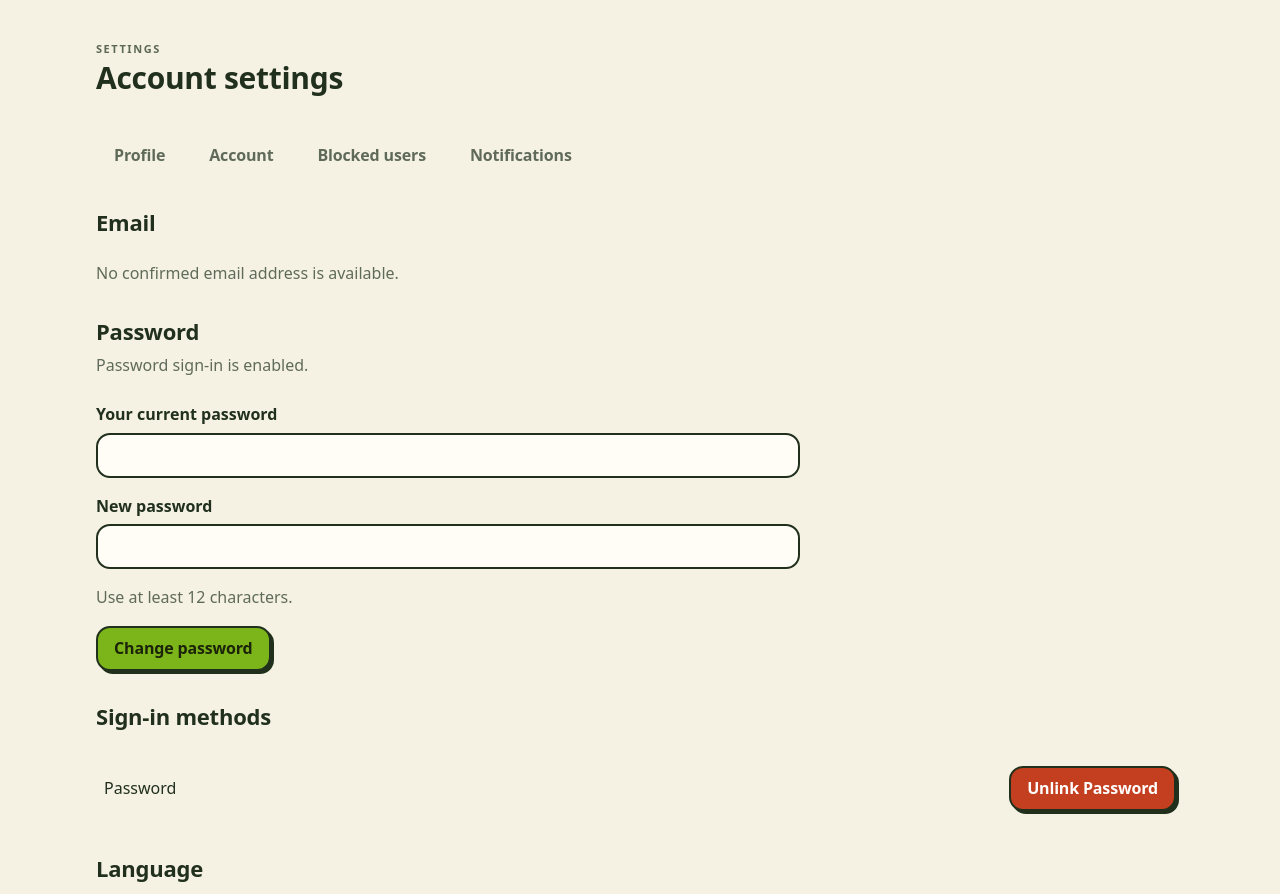
Scenario: PasswordManagement › blocks and hints a too-short new password on the change form
The width and height of the screenshot is (1280, 894).
In the password field labelled "Your current password": (448, 455) [96, 433, 800, 478], type "old-correct-password"
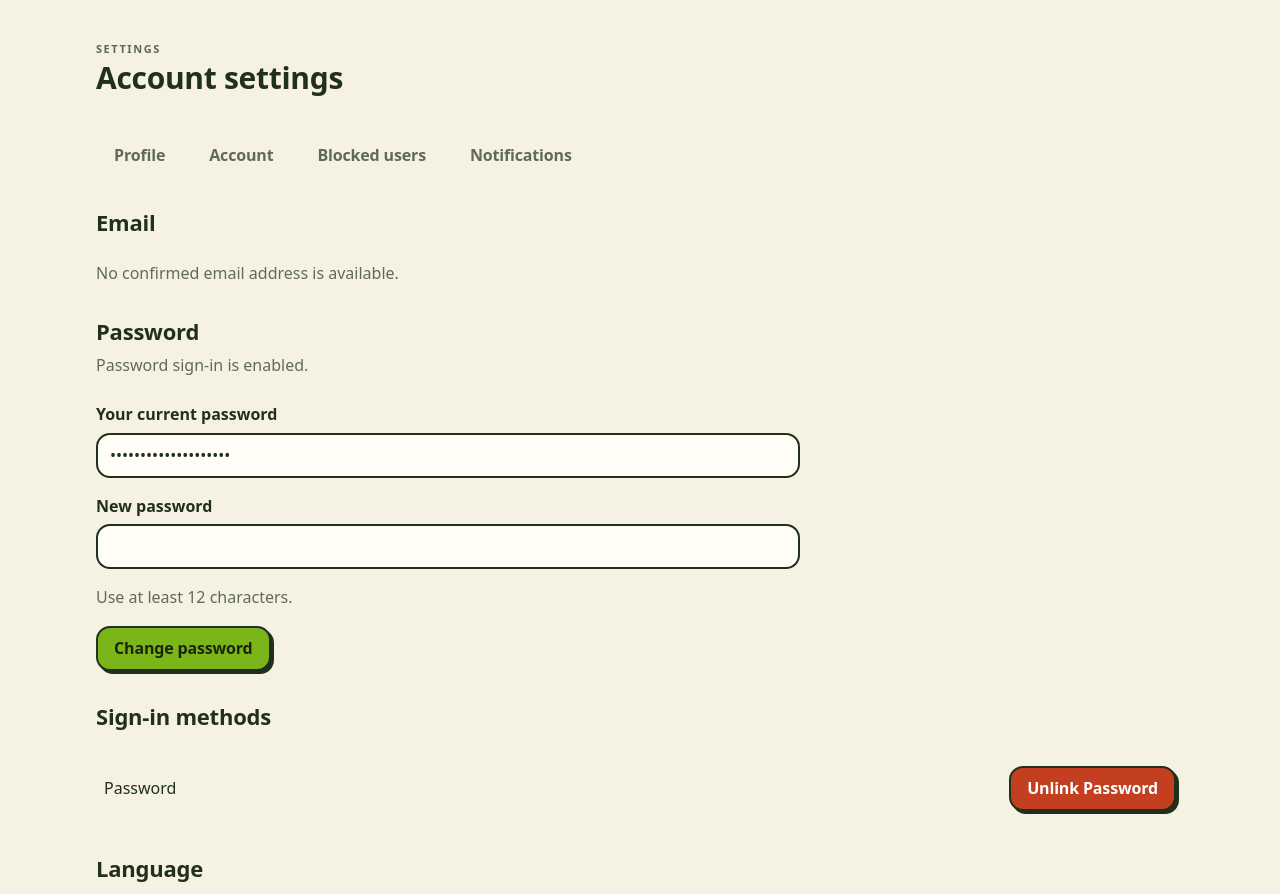
In the password field labelled "New password": (448, 547) [96, 524, 800, 569], type "short"
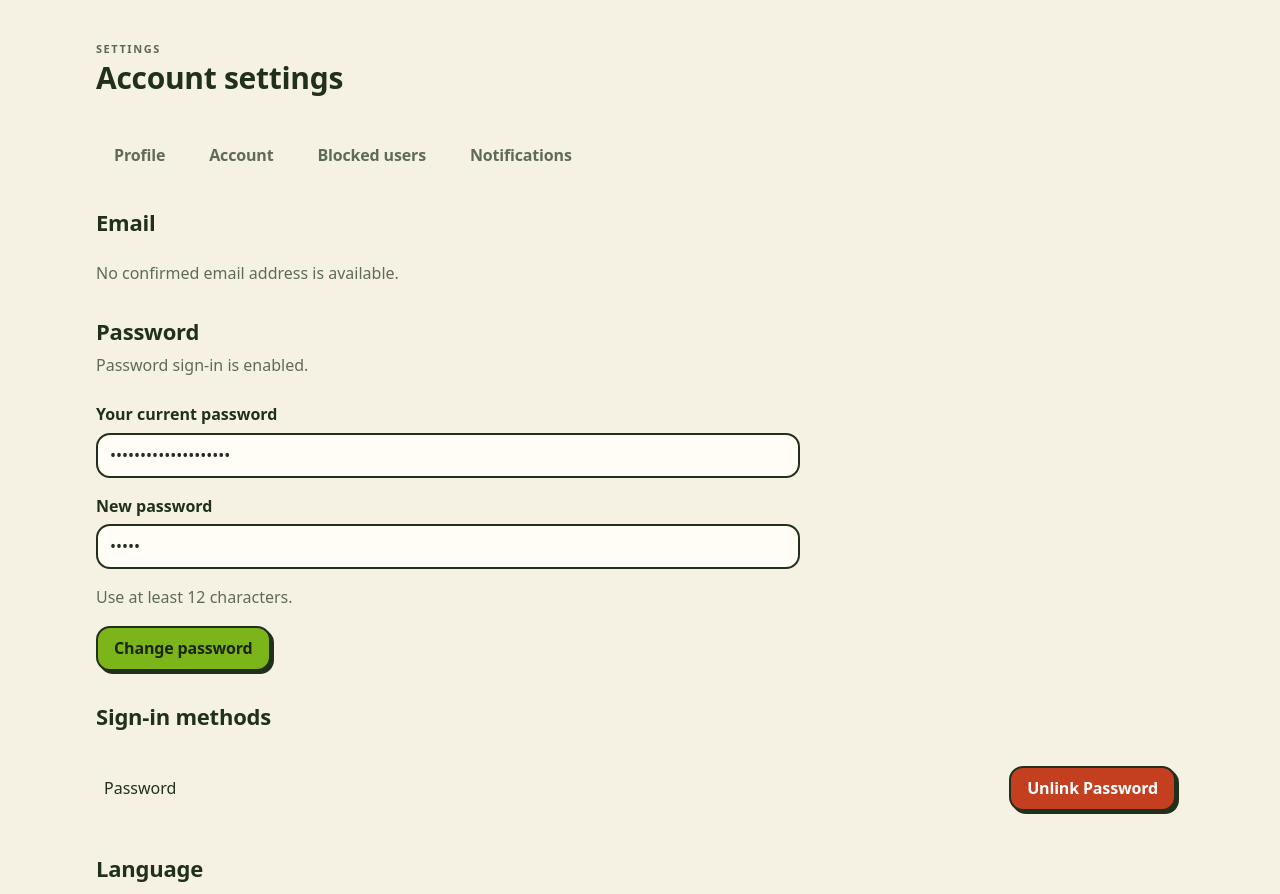
Click the button "Change password": click(183, 648) [96, 626, 271, 671]
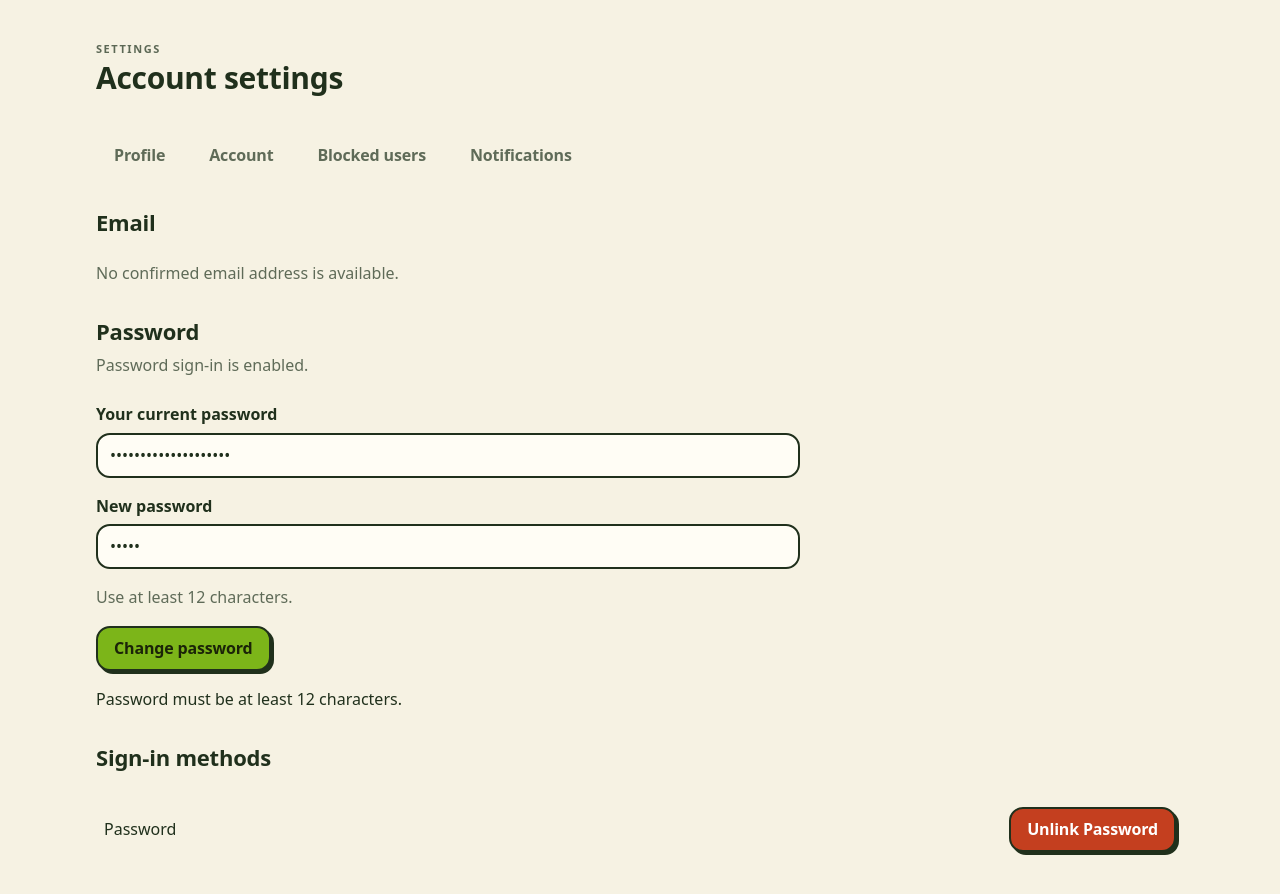
Check: the message reads "Password must be at least 12 characters.", box [96, 688, 402, 710]
